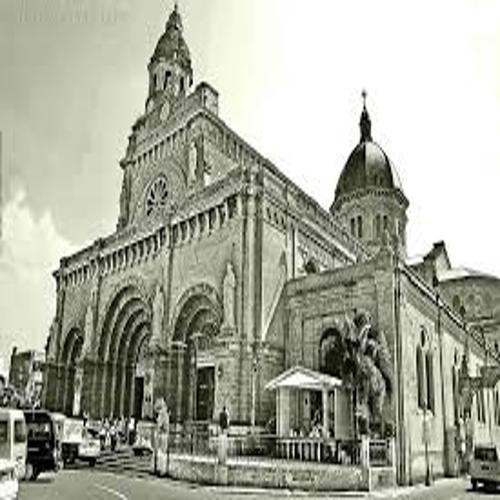Manila Cathedral Church: (37, 6, 469, 491)
